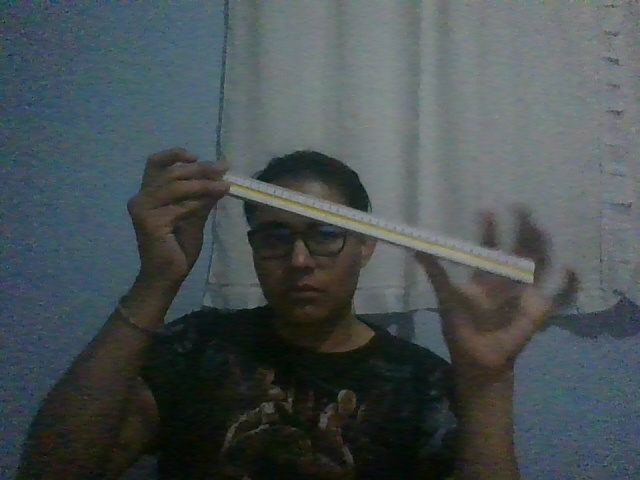regla: (220, 171, 536, 287)
